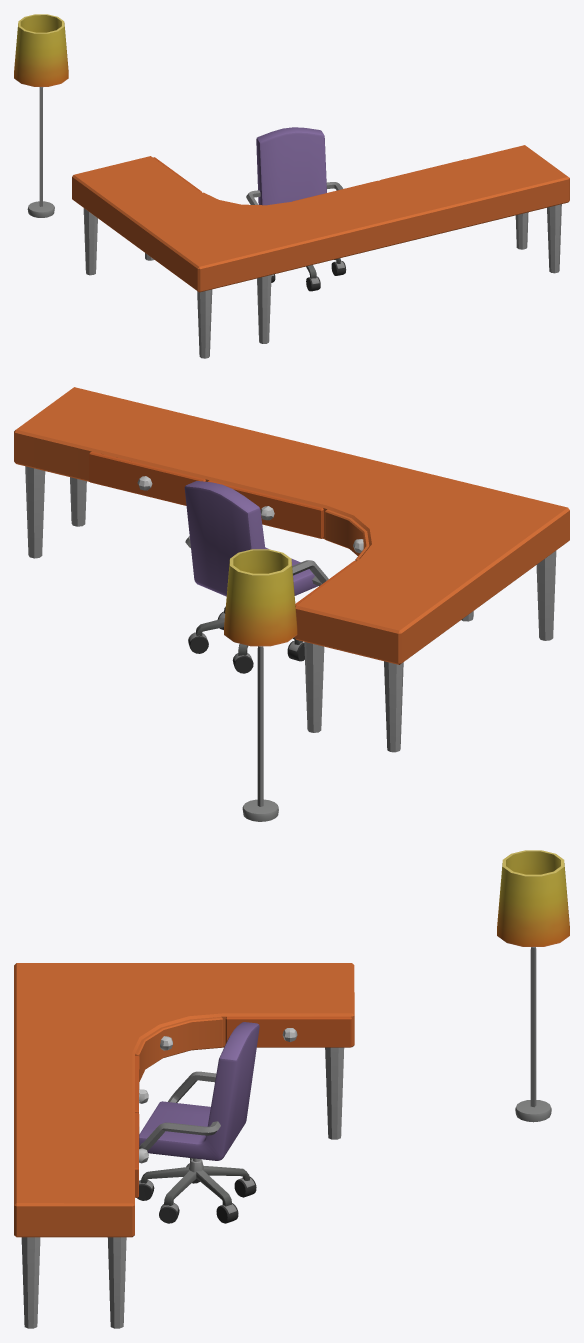
Rendered from pc table with lamp.fbx.
The picture shows the model from 3 angles, top to bottom: view 1: azimuth 30°, elevation 25°; view 2: azimuth 150°, elevation 25°; view 3: azimuth 270°, elevation 25°; orthographic projection. The views are drawn at different scales.
Visible parts, largest first — view 1: pc table with lamp; view 2: pc table with lamp; view 3: pc table with lamp.
Part boxes in pixels (x1,y1,x2,y2): pc table with lamp: (14,14,569,358); pc table with lamp: (14,387,569,821); pc table with lamp: (14,850,569,1328).
Size of the model in its own units: 335 by 164 by 325.
